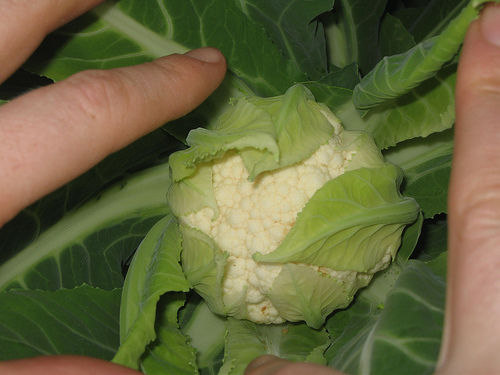cauliflower: (176, 106, 393, 324)
